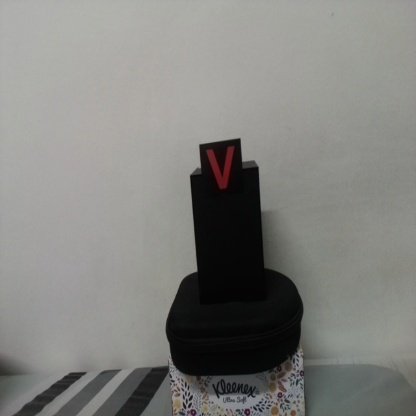id_11: (199, 143, 244, 200)
